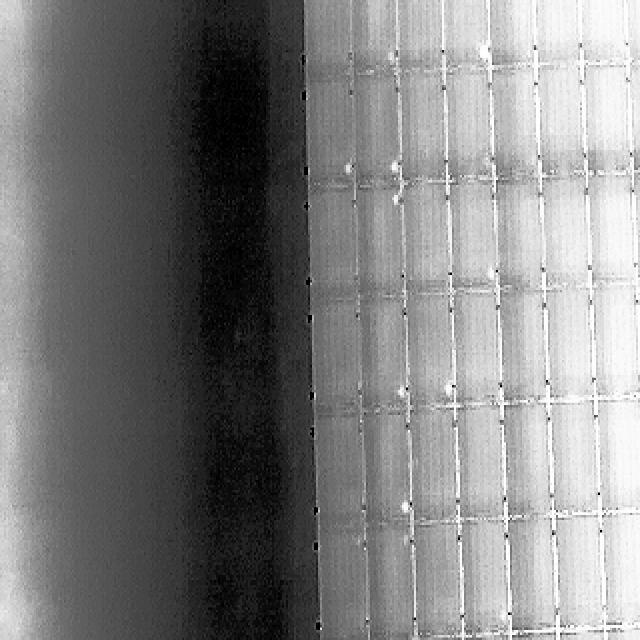Hotspots: (396, 379, 412, 404), (477, 44, 493, 66), (398, 495, 412, 519), (383, 157, 398, 179), (440, 381, 455, 401)
PV-modules: (366, 525, 418, 640), (502, 408, 553, 522), (506, 518, 556, 634), (552, 516, 602, 632), (315, 412, 365, 528), (409, 411, 459, 526), (458, 410, 508, 524), (357, 299, 407, 413), (551, 405, 601, 518), (318, 527, 368, 640), (352, 184, 402, 297), (454, 292, 503, 407), (546, 288, 595, 401), (414, 523, 462, 638), (407, 300, 455, 415), (498, 290, 546, 405), (402, 182, 452, 292), (493, 178, 543, 288), (312, 303, 361, 415), (449, 180, 498, 292), (350, 76, 399, 188), (463, 520, 510, 636), (310, 185, 357, 301), (581, 67, 631, 176), (536, 68, 585, 179), (400, 75, 449, 186), (362, 414, 409, 529), (443, 75, 491, 185), (307, 80, 355, 190), (586, 173, 633, 284), (491, 71, 538, 181), (594, 398, 640, 510), (544, 182, 590, 294), (594, 285, 640, 397), (602, 512, 640, 628), (305, 0, 354, 76), (396, 0, 446, 72), (440, 0, 490, 72), (348, 0, 396, 73), (484, 0, 536, 65), (535, 0, 584, 64), (577, 0, 626, 63), (628, 65, 640, 175), (620, 0, 640, 60), (636, 282, 640, 398), (558, 632, 608, 640), (606, 630, 640, 640), (462, 635, 512, 640), (512, 635, 562, 640), (638, 175, 640, 287), (412, 637, 464, 640)
